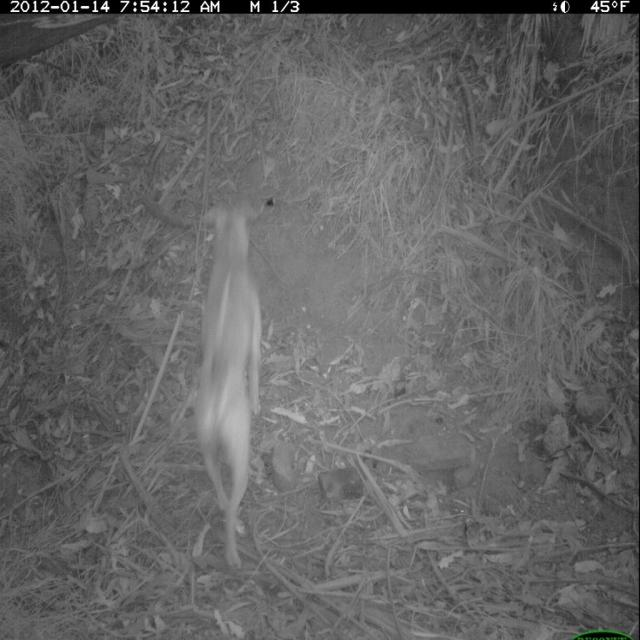dog: (192, 186, 271, 581)
